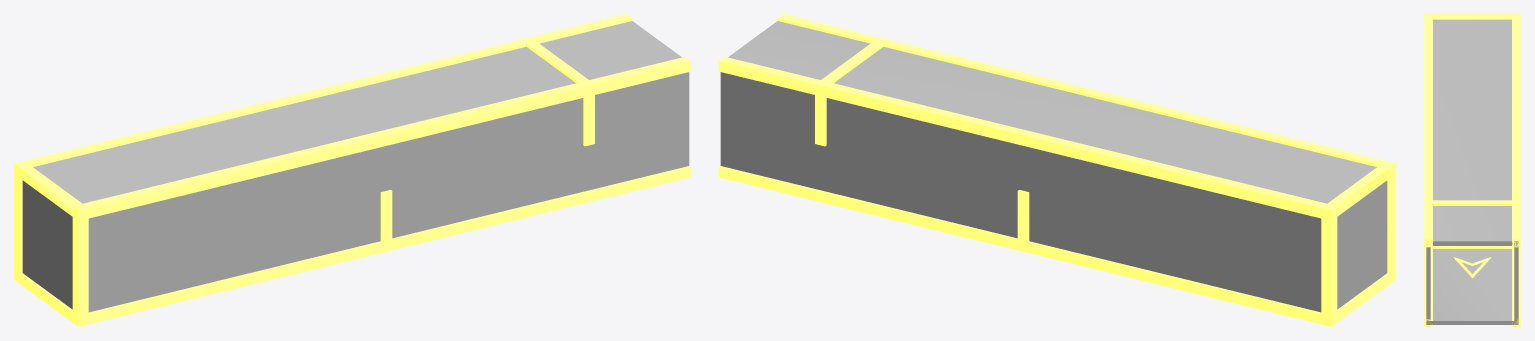
3 renders of one model, left to right at view 1: azimuth 30°, elevation 25°; view 2: azimuth 150°, elevation 25°; view 3: azimuth 270°, elevation 25°, orthographic. The views are drawn at different scales.
Visible parts, largest first — view 1: Wall, Loft; view 2: Wall, Loft; view 3: Wall, Loft.
Part boxes in pixels (left/top/right/bottom): Wall: left=22, top=21, right=689, bottom=312; Loft: left=14, top=14, right=690, bottom=326; Wall: left=720, top=21, right=1387, bottom=312; Loft: left=719, top=14, right=1395, bottom=326; Wall: left=1426, top=19, right=1518, bottom=324; Loft: left=1424, top=14, right=1520, bottom=326.
Bounding box in the file's own units: 121 × 22 × 22.
